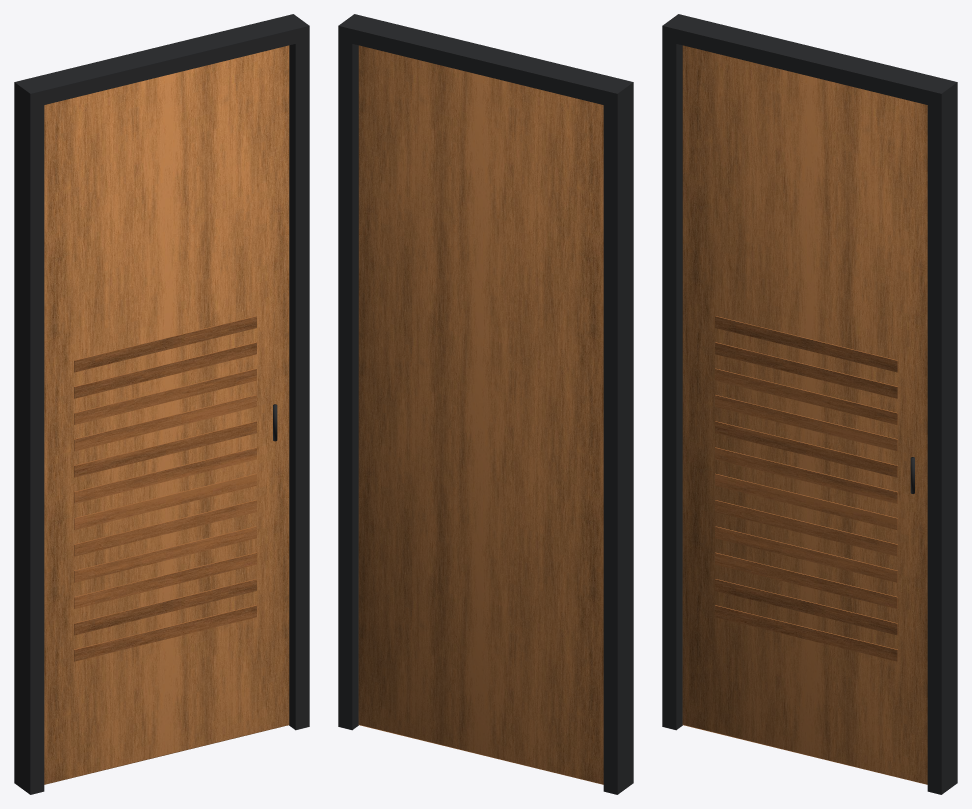
File: architecture.door-with-louvers.glb
3 renders of one model, left to right at view 1: azimuth 30°, elevation 25°; view 2: azimuth 150°, elevation 25°; view 3: azimuth 330°, elevation 25°, orthographic.
Parts seen in each view (by area): view 1: architecture.door-with-louvers.001; view 2: architecture.door-with-louvers.001; view 3: architecture.door-with-louvers.001.
Part boxes in pixels (box(x1,y1,x2,y2)): architecture.door-with-louvers.001: box(14, 14, 309, 794); architecture.door-with-louvers.001: box(338, 14, 633, 794); architecture.door-with-louvers.001: box(662, 14, 957, 794).
Size of the model in its own units: 1 by 2.4 by 0.1.
3 materials, 2 textured.
